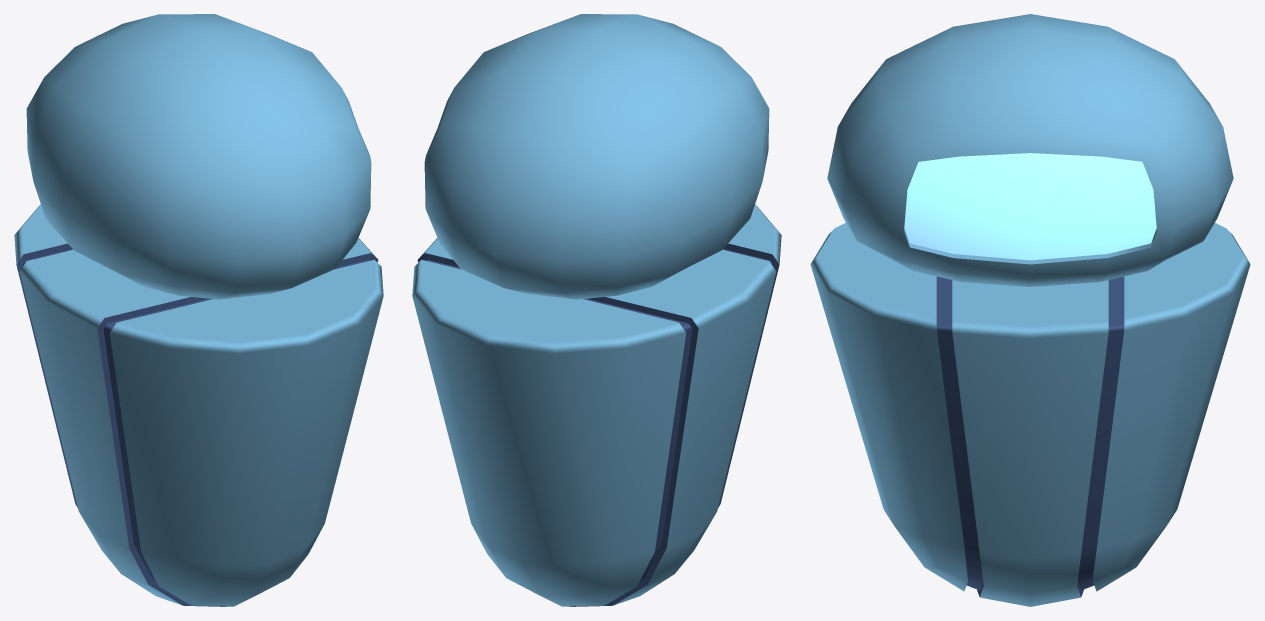
File: Robot_2.fbx
3 renders of one model, left to right at view 1: azimuth 30°, elevation 25°; view 2: azimuth 150°, elevation 25°; view 3: azimuth 270°, elevation 25°, orthographic.
Parts seen in each view (by area): view 1: SM_Robot_2; view 2: SM_Robot_2; view 3: SM_Robot_2.
Boxes of the visible parts, x1,y1,x2,y2 form: SM_Robot_2: [14, 14, 383, 606]; SM_Robot_2: [412, 14, 781, 606]; SM_Robot_2: [810, 14, 1250, 606].
Size of the model in its own units: 1.25 by 2.24 by 1.57.
